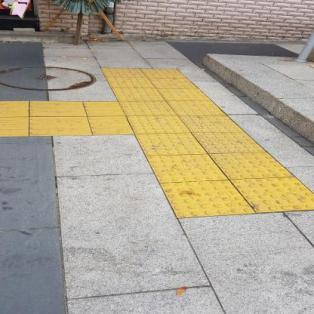Podoctatil: (0, 60, 313, 221)
